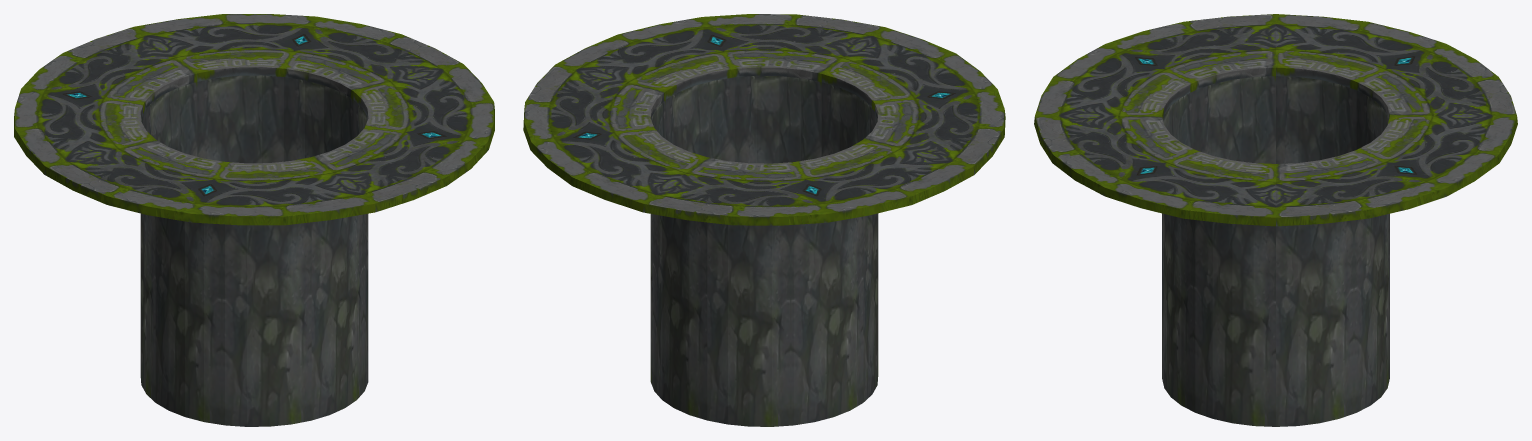
The model's file is SV_AFT_jjc1_pintai_0.FBX.
3 renders of one model, left to right at view 1: azimuth 30°, elevation 25°; view 2: azimuth 150°, elevation 25°; view 3: azimuth 270°, elevation 25°, orthographic.
Visible parts, largest first — view 1: SV_AFT_jjc1_pintai_003; view 2: SV_AFT_jjc1_pintai_003; view 3: SV_AFT_jjc1_pintai_003.
Part boxes in pixels (left/top/right/bottom): SV_AFT_jjc1_pintai_003: left=14, top=14, right=494, bottom=426; SV_AFT_jjc1_pintai_003: left=523, top=14, right=1005, bottom=426; SV_AFT_jjc1_pintai_003: left=1034, top=14, right=1517, bottom=426.
Size of the model in its own units: 17 by 10.19 by 17.
Materials: 1 (1 with a texture image).
